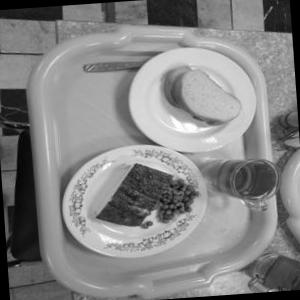bread: (160, 60, 248, 130)
casserole: (82, 157, 204, 236)
tea: (208, 152, 284, 206)
